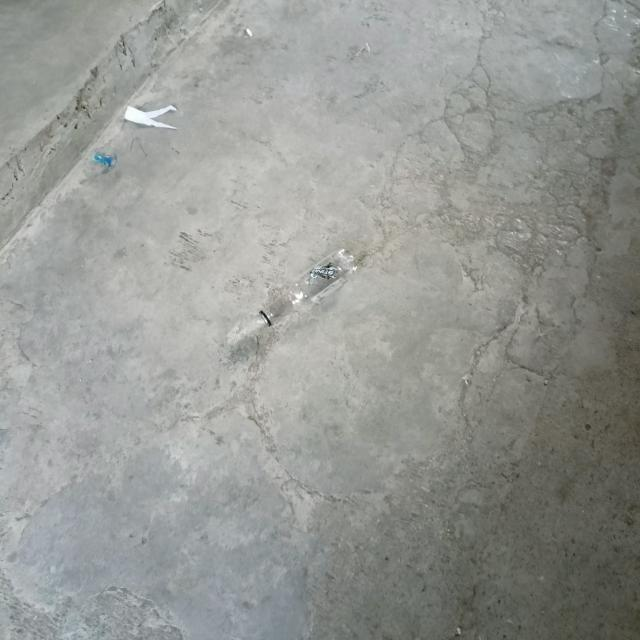Bottle: (257, 249, 357, 326)
